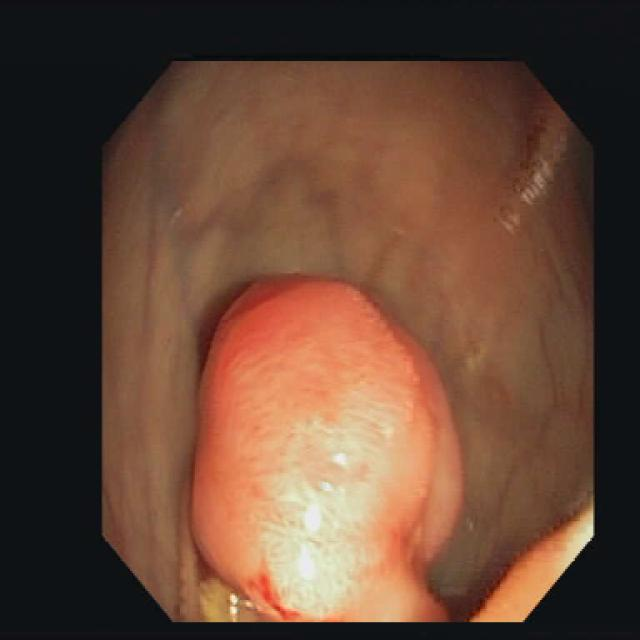tumor: (192, 278, 460, 620)
